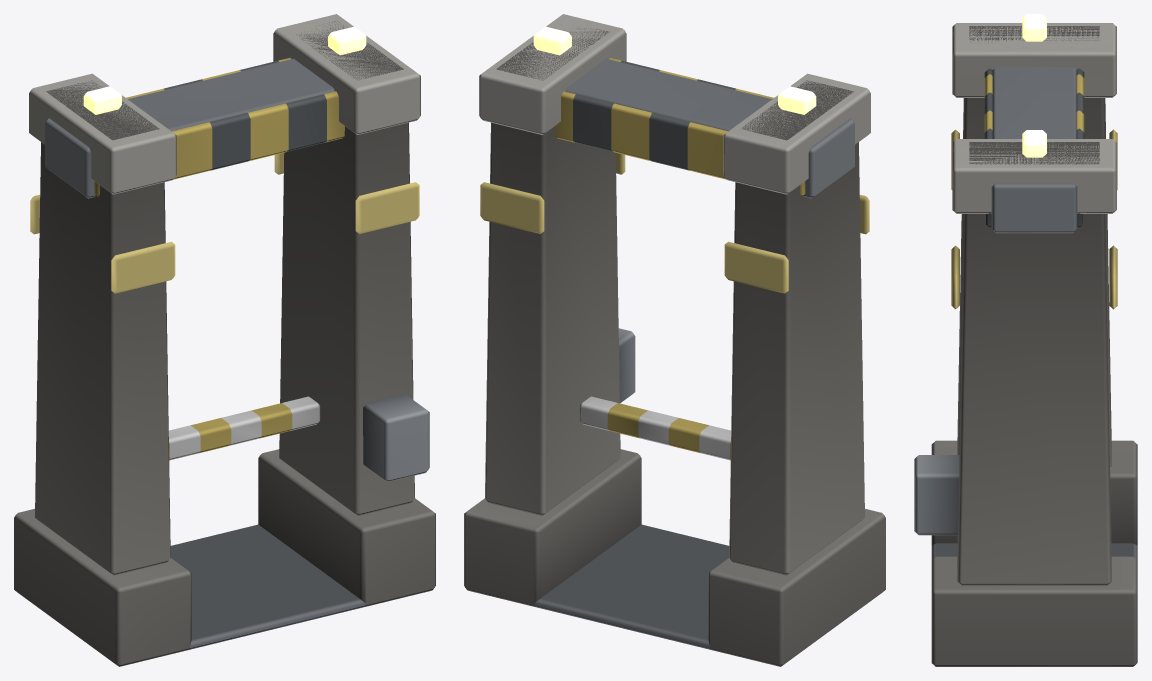
Rendered from gate.glb.
3 views of the same model, side by side, from view 1: azimuth 30°, elevation 25°; view 2: azimuth 150°, elevation 25°; view 3: azimuth 270°, elevation 25° (orthographic). The views are drawn at different scales.
Parts seen in each view (by area): view 1: Body; view 2: Body; view 3: Body.
Part boxes in pixels (box(x1,y1,x2,y2)): Body: box(14, 14, 435, 666); Body: box(464, 14, 885, 666); Body: box(914, 14, 1137, 666).
Bounding box in the file's own units: 2.1 × 3.31 × 1.3.
